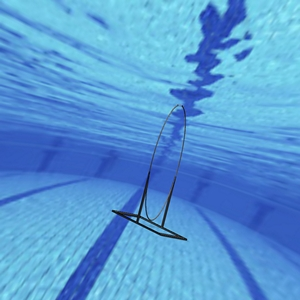circle: (109, 103, 188, 240)
